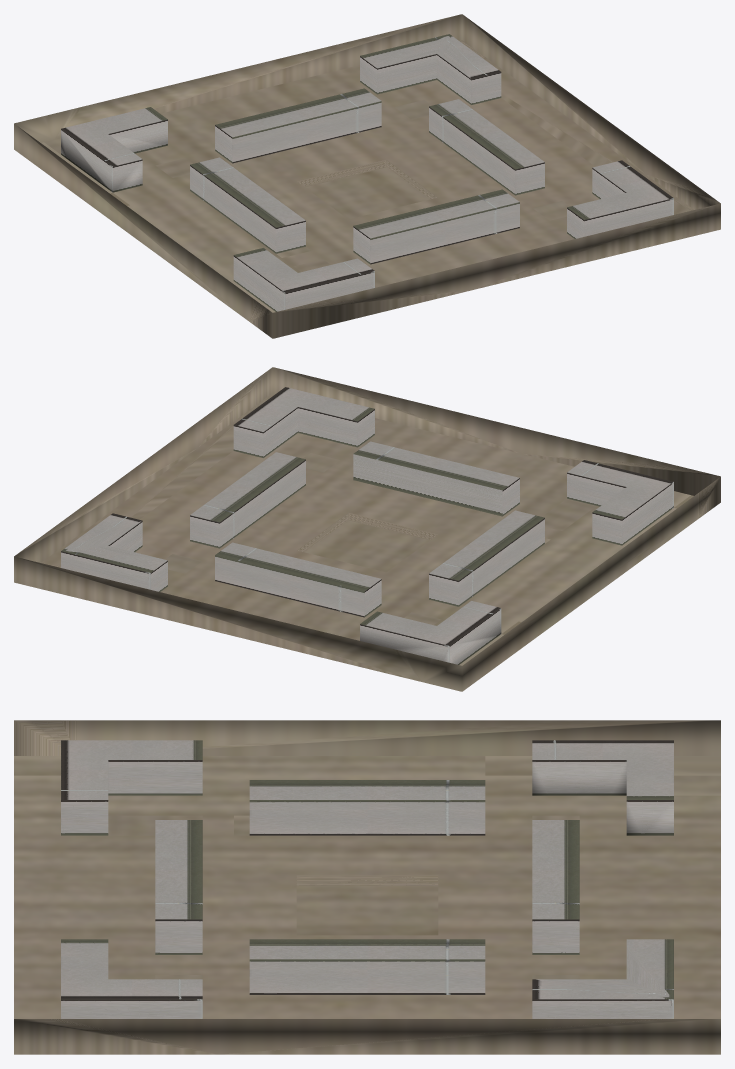
The model's file is Map_Final.fbx.
The picture shows the model from 3 angles, top to bottom: view 1: azimuth 30°, elevation 25°; view 2: azimuth 150°, elevation 25°; view 3: azimuth 270°, elevation 25°; orthographic projection. The views are drawn at different scales.
Parts seen in each view (by area): view 1: Plane; view 2: Plane; view 3: Plane.
Part boxes in pixels (bbox=[...]): Plane: bbox=[14, 14, 720, 338]; Plane: bbox=[14, 367, 720, 691]; Plane: bbox=[14, 720, 720, 1054].
Bounding box in the file's own units: 90 × 6.5 × 90.
